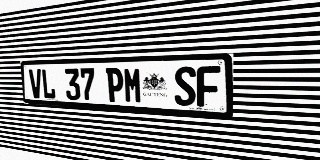3: (64, 68, 80, 100)
7: (79, 68, 96, 101)
F: (197, 66, 220, 108)
L: (41, 69, 56, 99)
M: (123, 67, 142, 104)
P: (106, 68, 124, 103)
S: (174, 66, 196, 106)
V: (29, 69, 43, 99)
